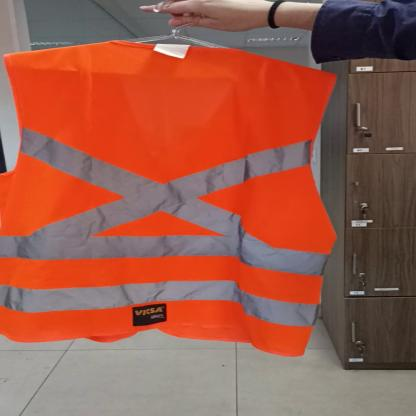colete: (4, 38, 326, 360)
